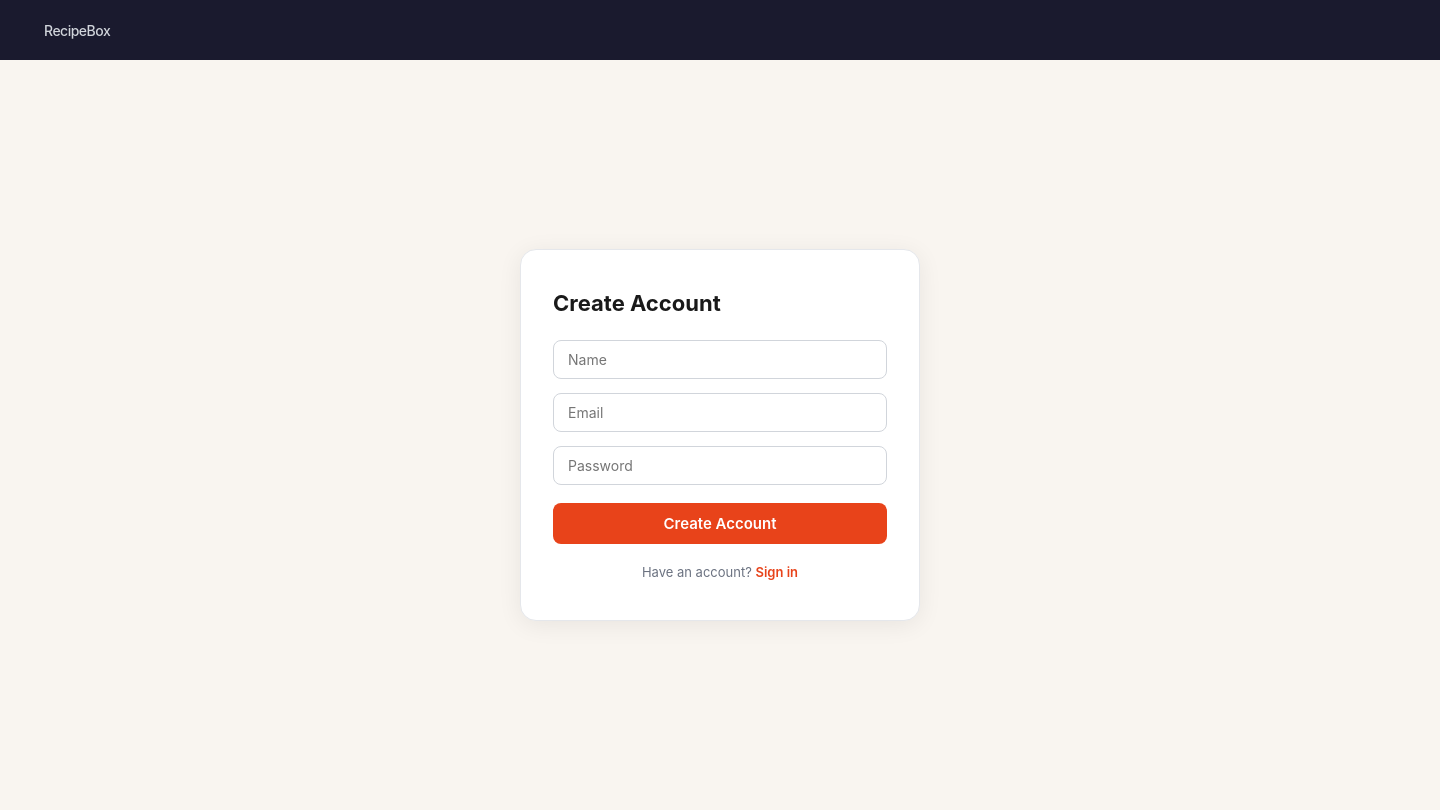
Test: registers a new user through the users endpoint and shows the private home
The image size is (1440, 810).
In the field with placeholder "Name": (720, 360) [553,340,887,379], type "New Cook"
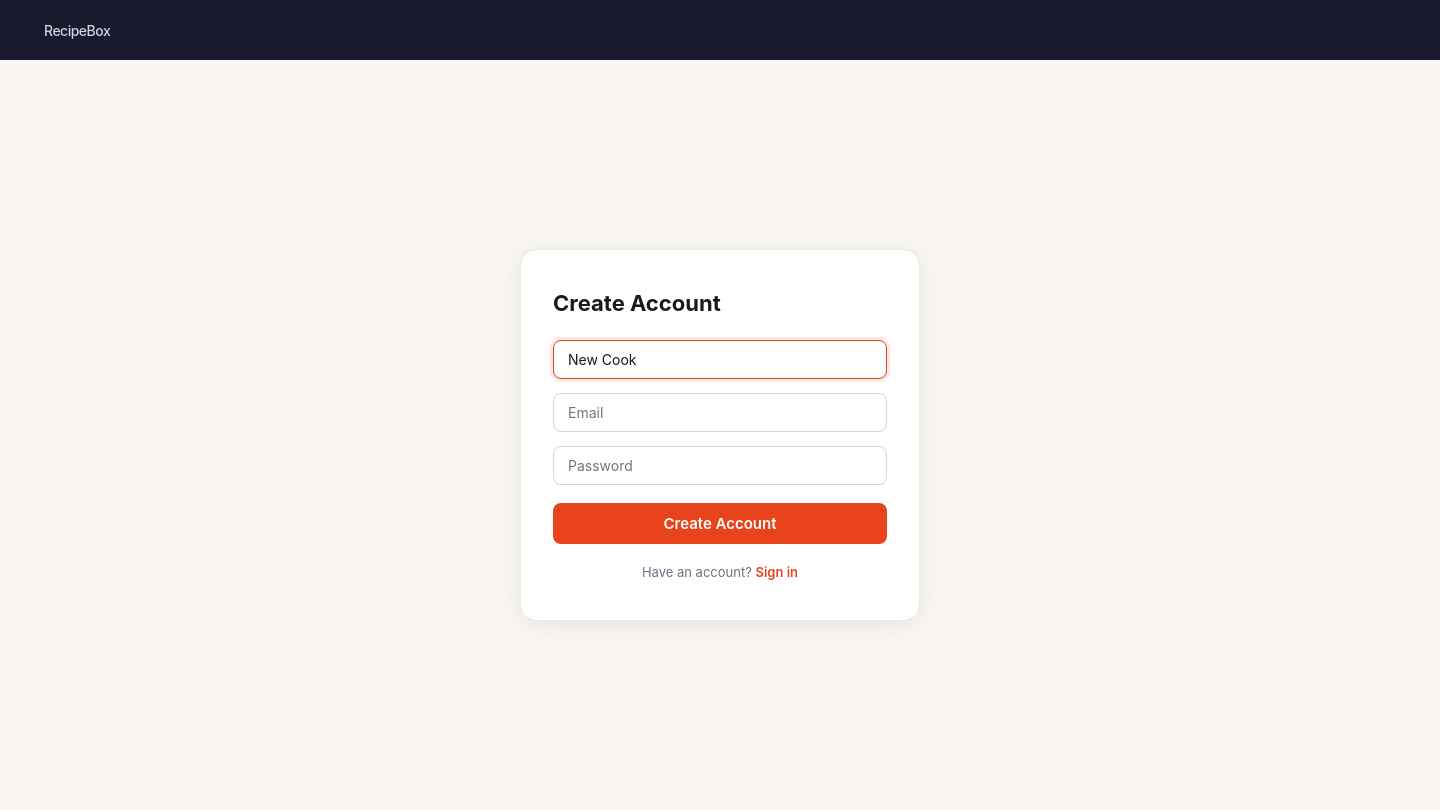
In the field with placeholder "Email": (720, 412) [553,393,887,432], type "new@email.com"
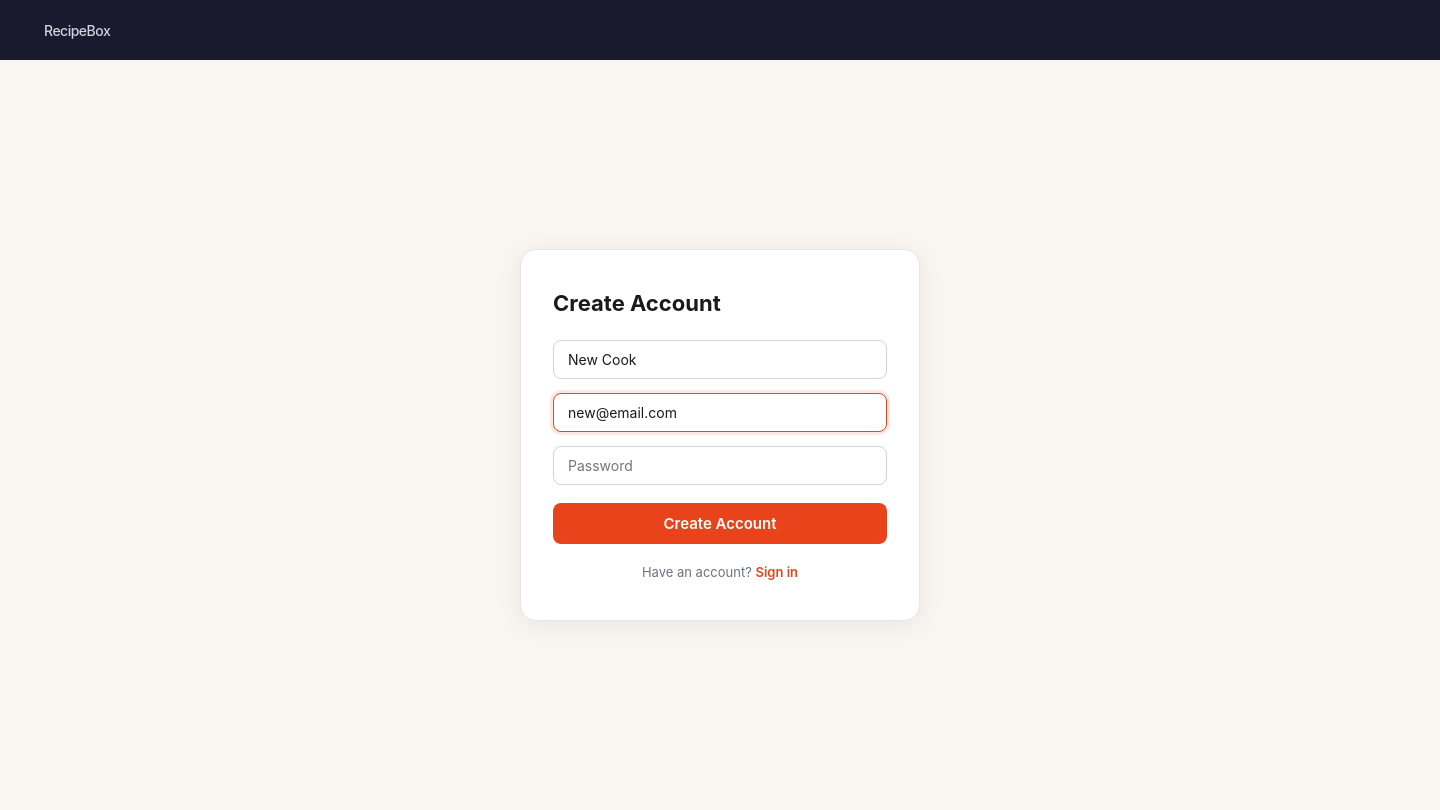
In the password field with placeholder "Password": (720, 466) [553,446,887,485], type "secret123"
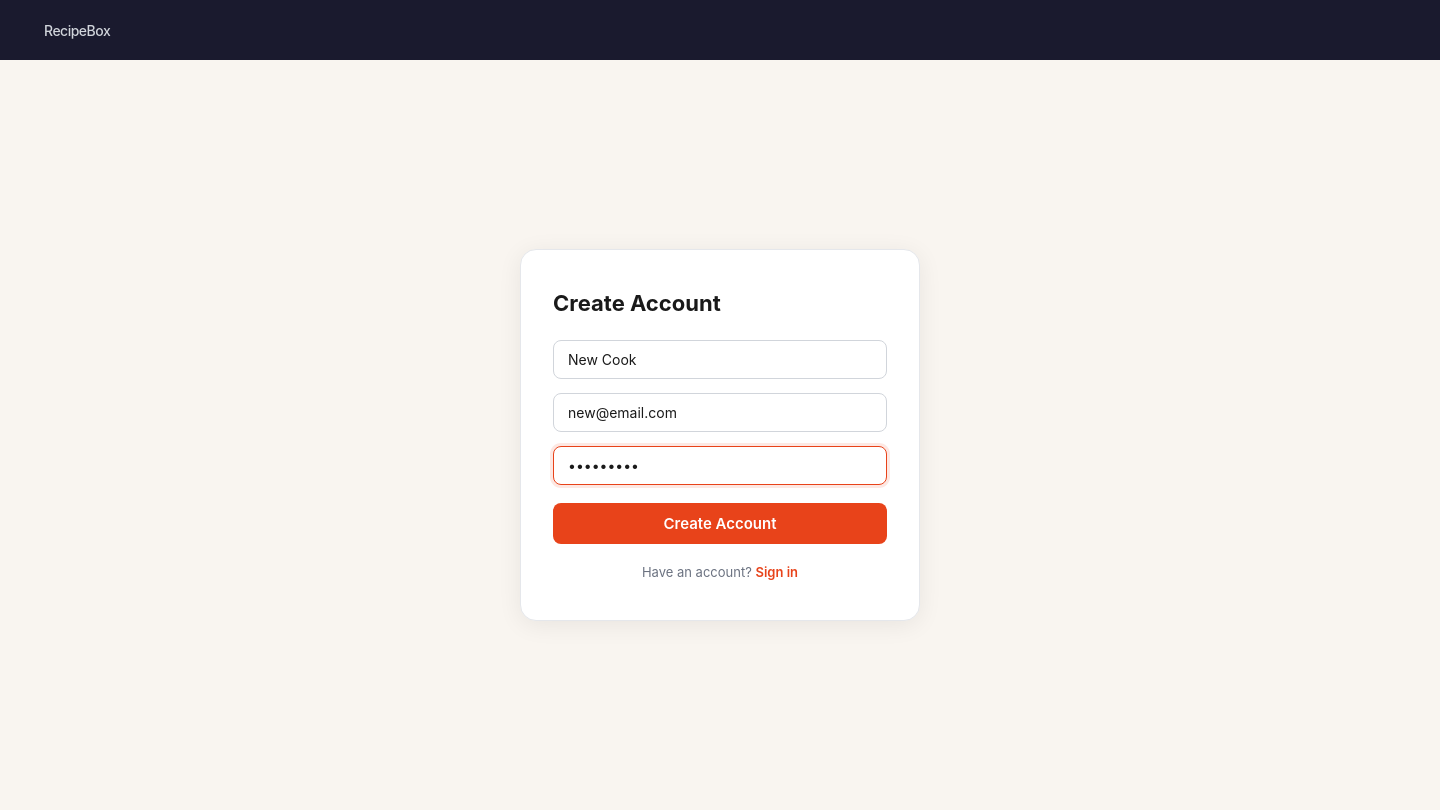
Click the button "Create Account": (720, 524) [553,503,887,544]
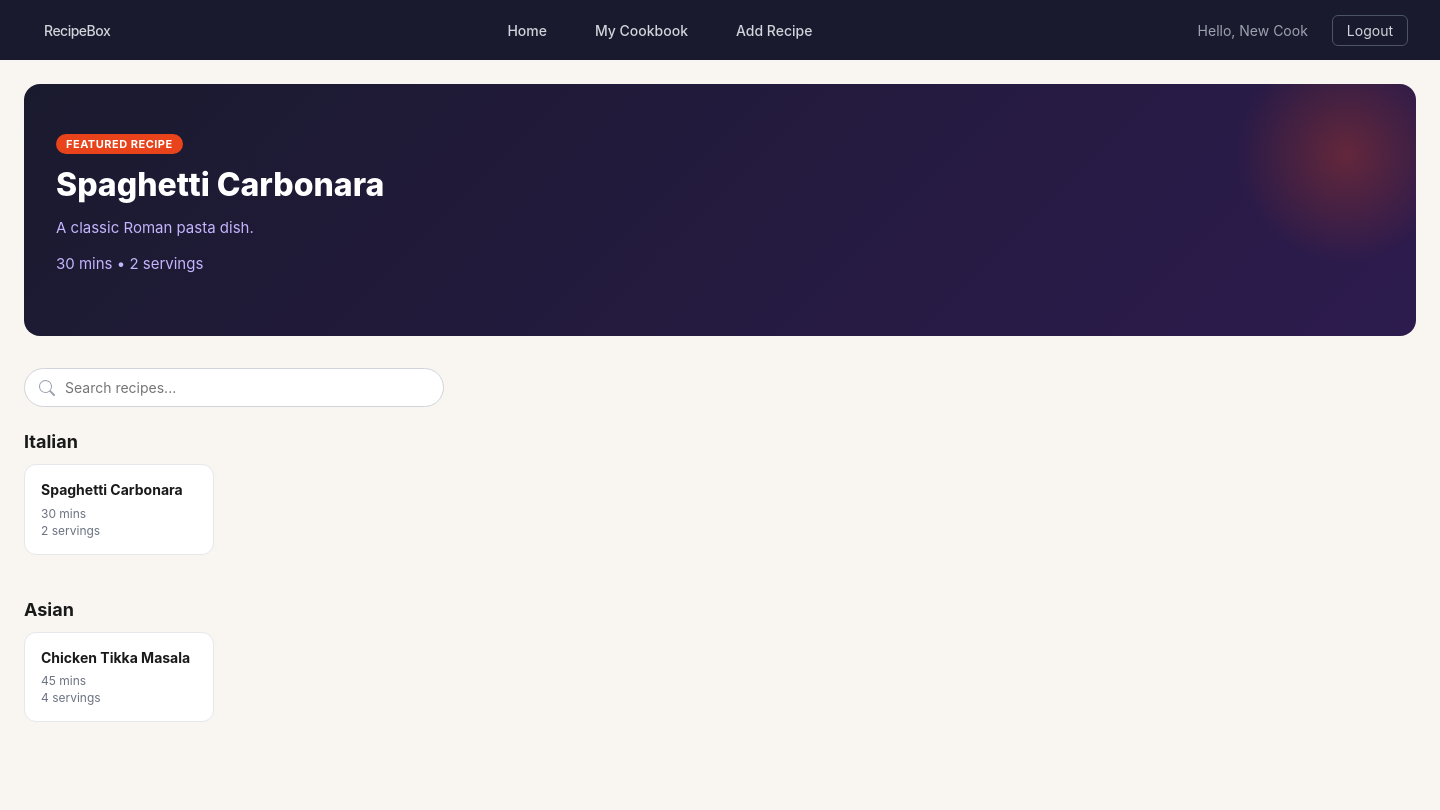
expect the text "Hello, New Cook" is shown: met, box [1198,22,1308,38]
